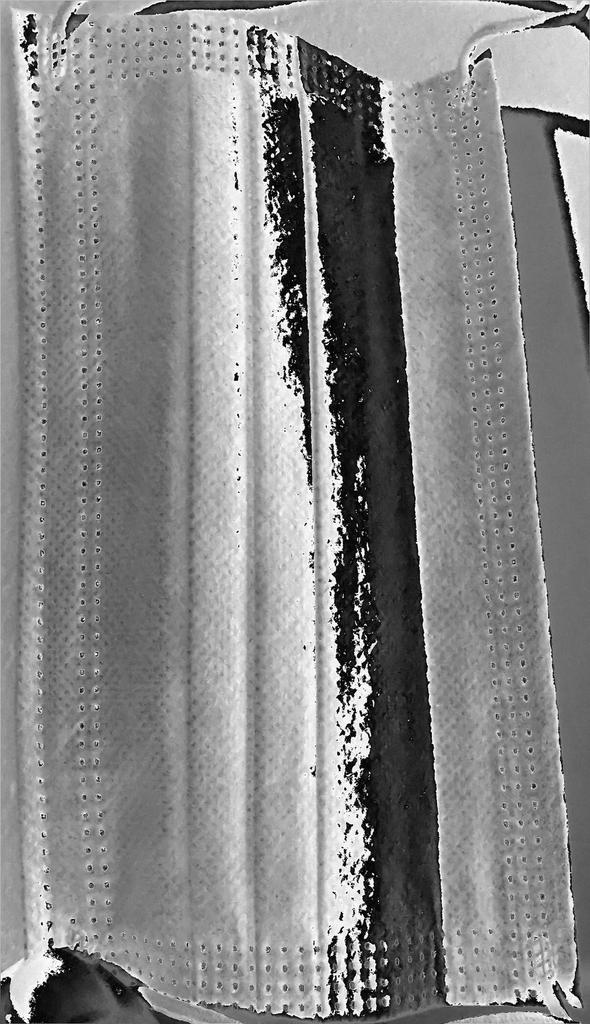High GSM: (95, 77, 440, 932)
